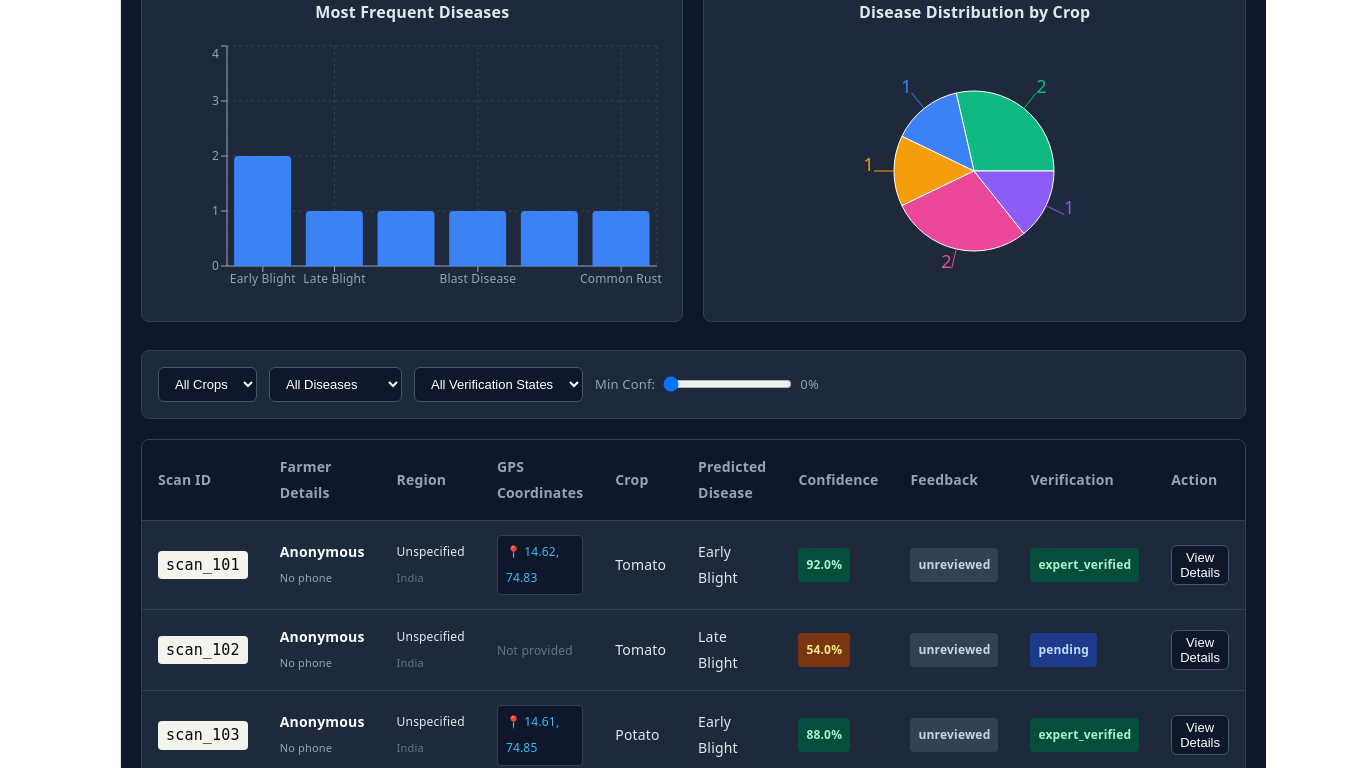
Scenario: AgroLens Research Dashboard Tests › filters by verification status
(page scrolled)
Select "Rejected" in the 3rd dropdown showing "All Verification States" at (498, 384), box x1=414 y1=367 x2=583 y2=402
(page scrolled)
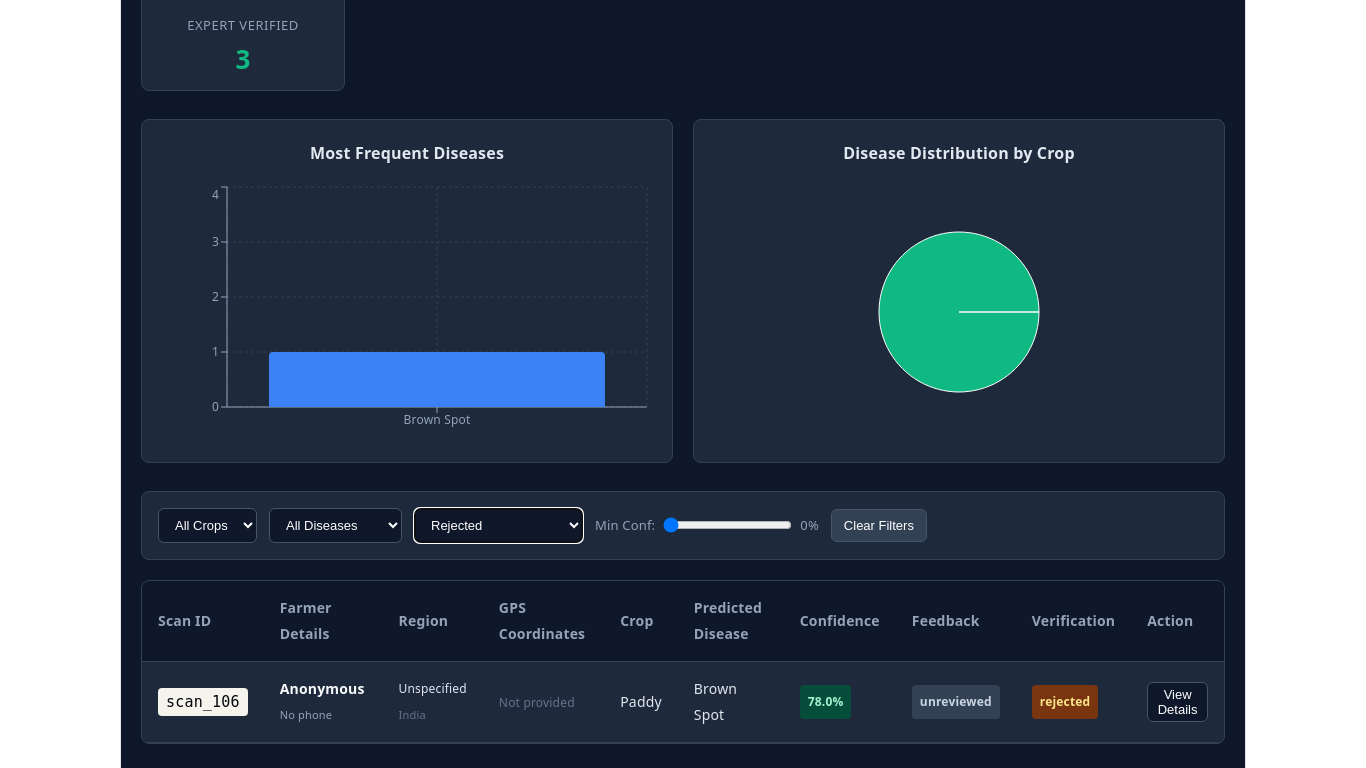
Check: the text "scan_106" is shown, box x1=158 y1=688 x2=248 y2=716
Check: the text "scan_101" is gone
